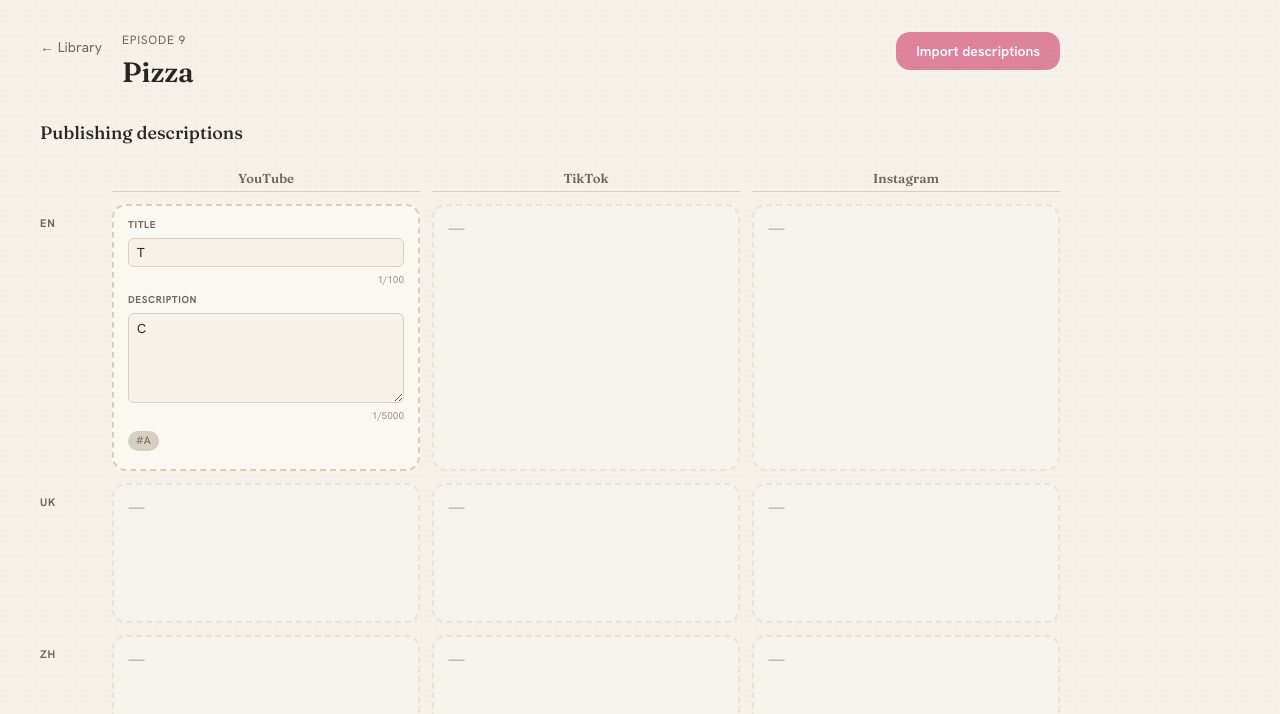
Test: Episode › shows success result after import
expect the heading "Pizza" is shown: met, box [122, 53, 194, 92]
Click the button "Import descriptions" at point(978, 51), box [896, 32, 1060, 70]
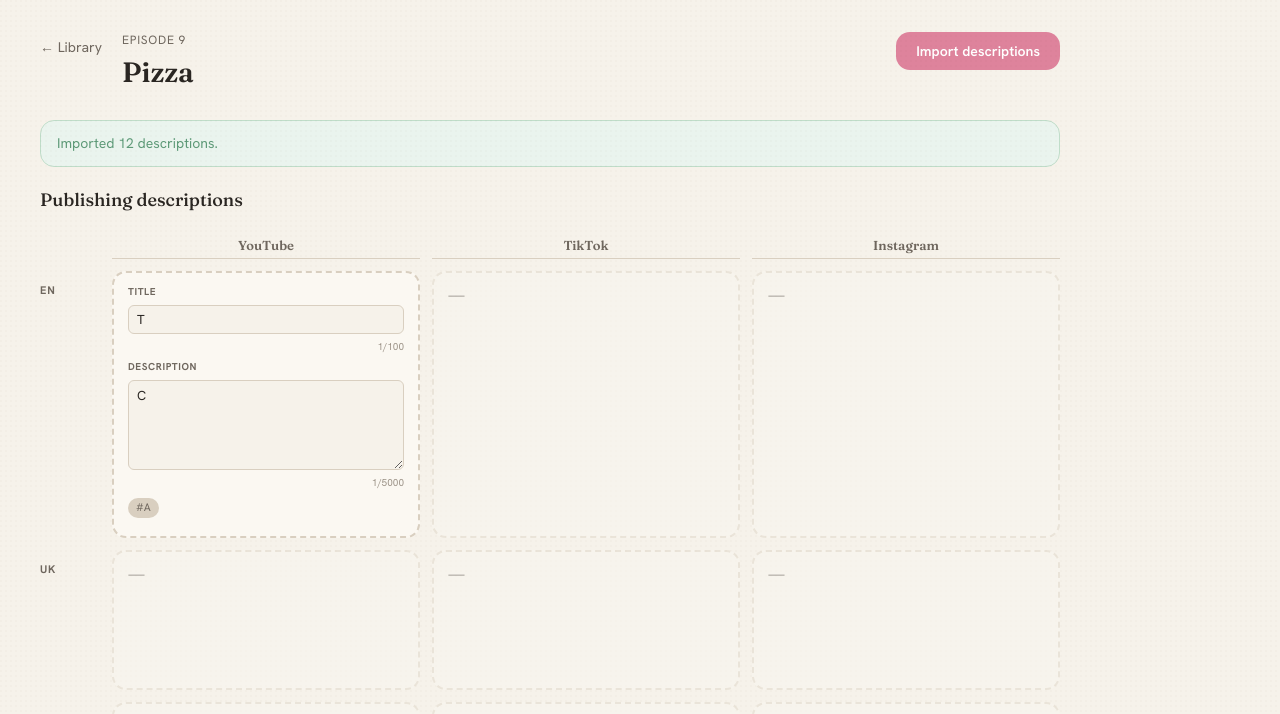
expect the text "Imported 12 descriptions." is shown: met, box [57, 134, 218, 152]
